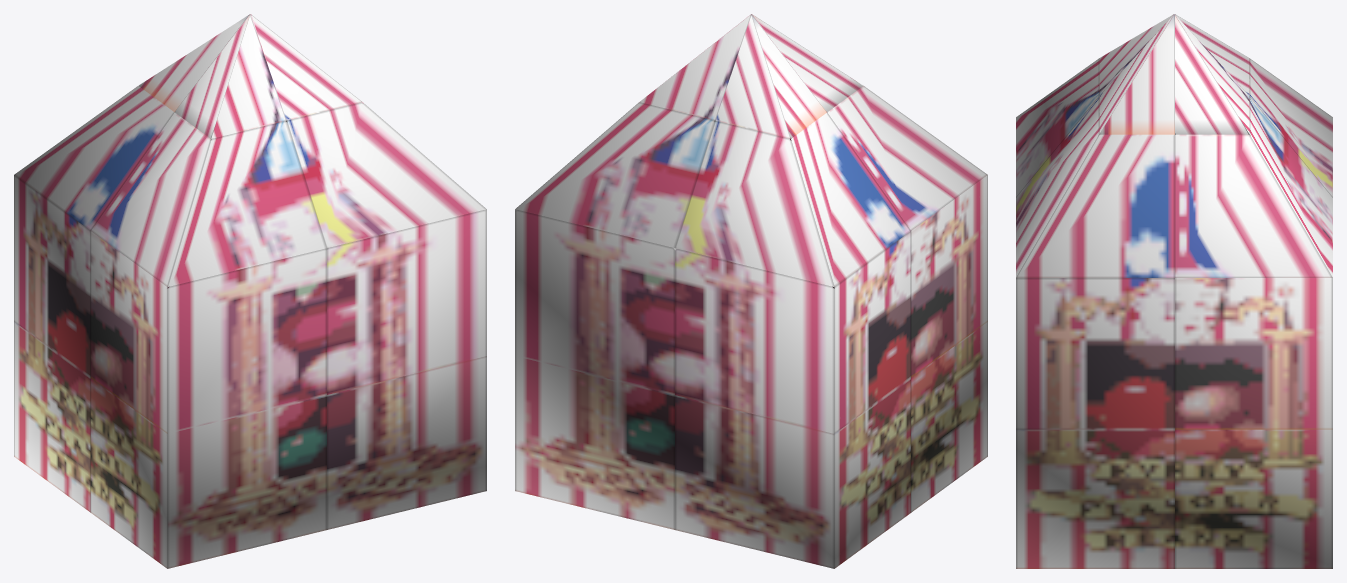
3 views of the same model, side by side, from view 1: azimuth 30°, elevation 25°; view 2: azimuth 150°, elevation 25°; view 3: azimuth 270°, elevation 25° (orthographic). The views are drawn at different scales.
Parts seen in each view (by area): view 1: T1L2M005_2; view 2: T1L2M005_2; view 3: T1L2M005_2.
Part boxes in pixels (x1,y1,x2,y2): T1L2M005_2: (14, 14, 486, 568); T1L2M005_2: (515, 14, 987, 568); T1L2M005_2: (1016, 14, 1332, 568).
Size of the model in its own units: 0.4424 by 0.6084 by 0.3682.
